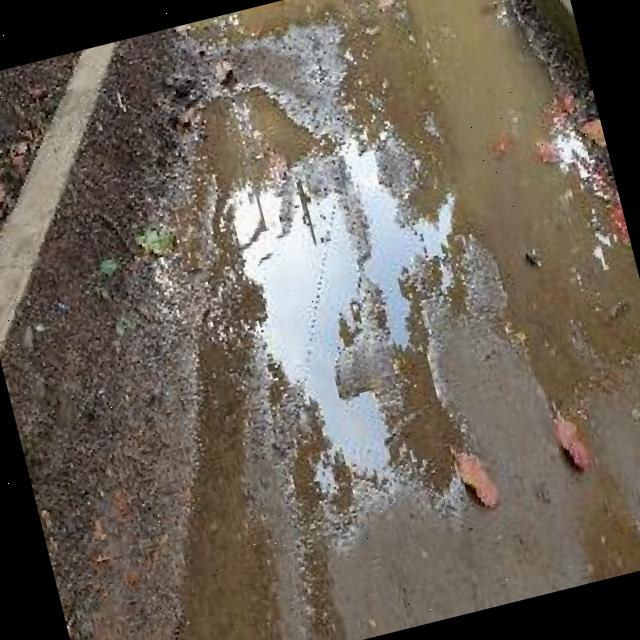stagnation: (144, 0, 640, 640)
